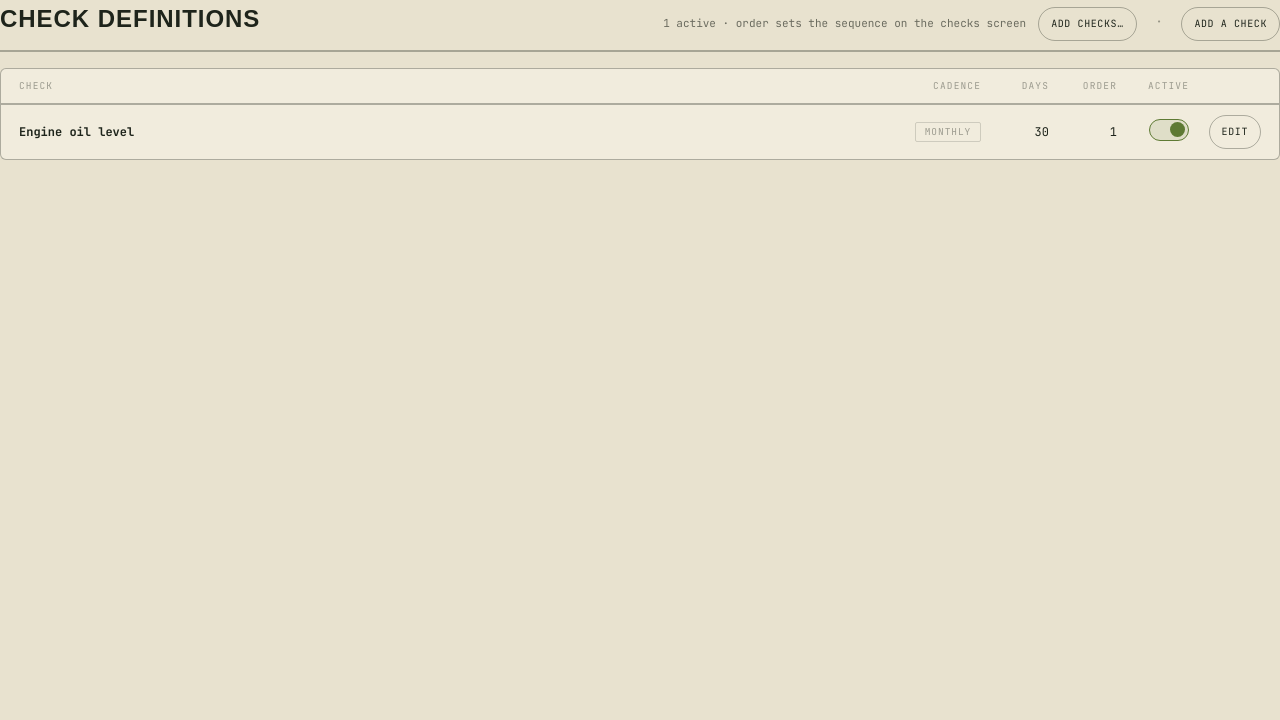
CheckDefinitionsPanel - add a set of checks › does not offer copy-from-vehicle when there is no other vehicle
The image size is (1280, 720).
Expected: the text "Engine oil level" is shown, [19,124,134,140]
Click the button "Add checks…" at (1088, 24), box [1038,7,1137,40]
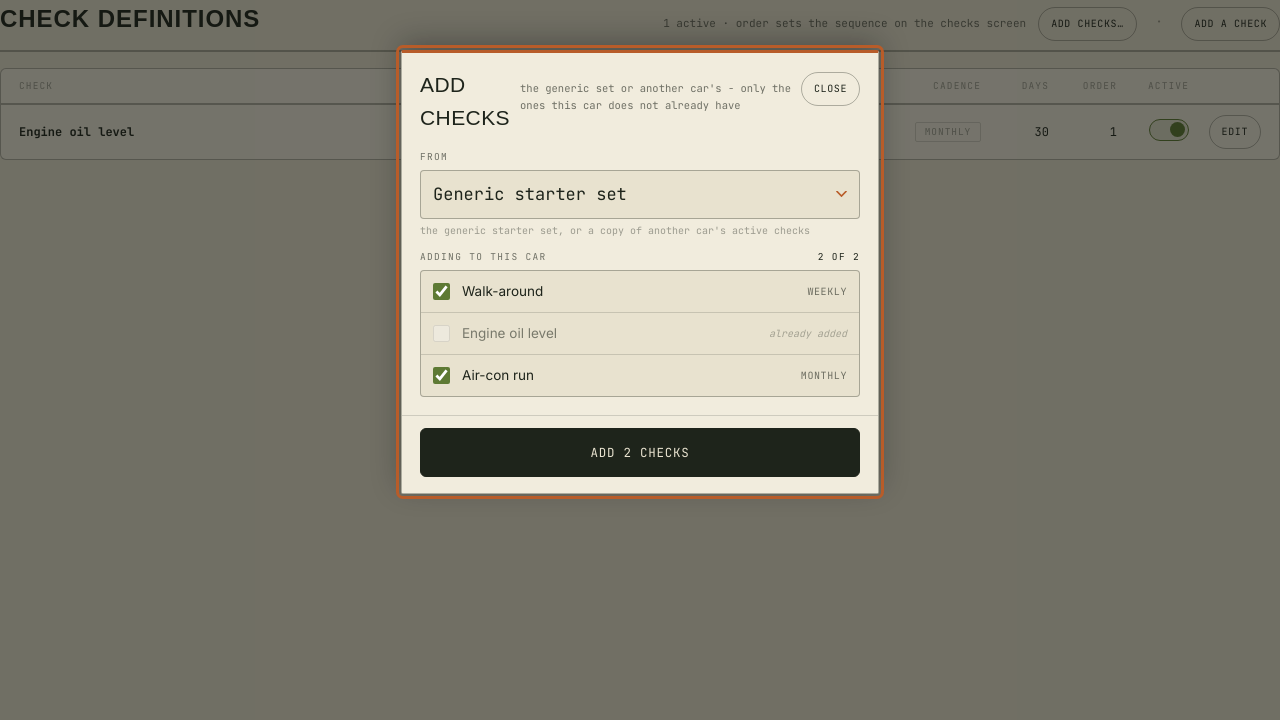
Expected: the checkbox labelled "Walk-around Weekly" is shown, [433,283,450,300]
